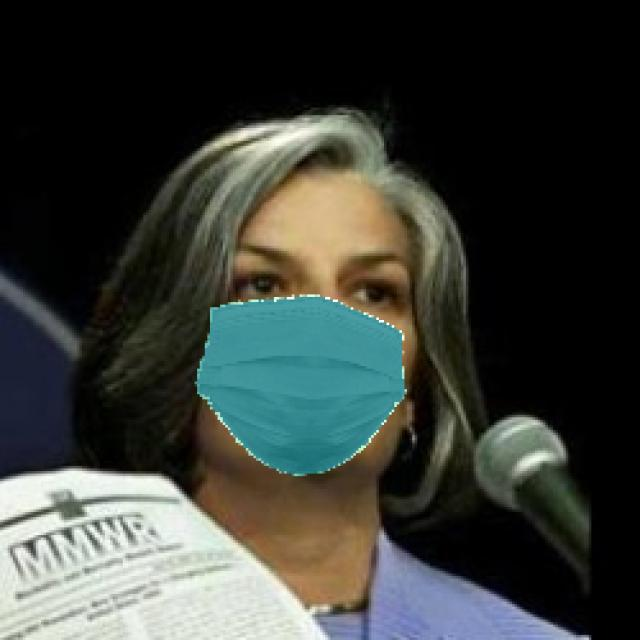mask: (188, 280, 404, 490)
